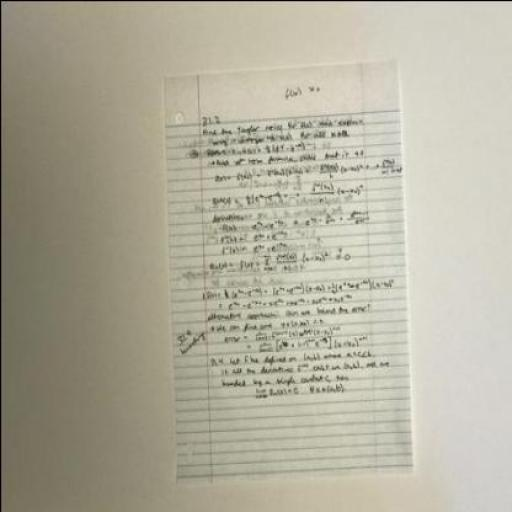paper: (162, 63, 415, 482)
